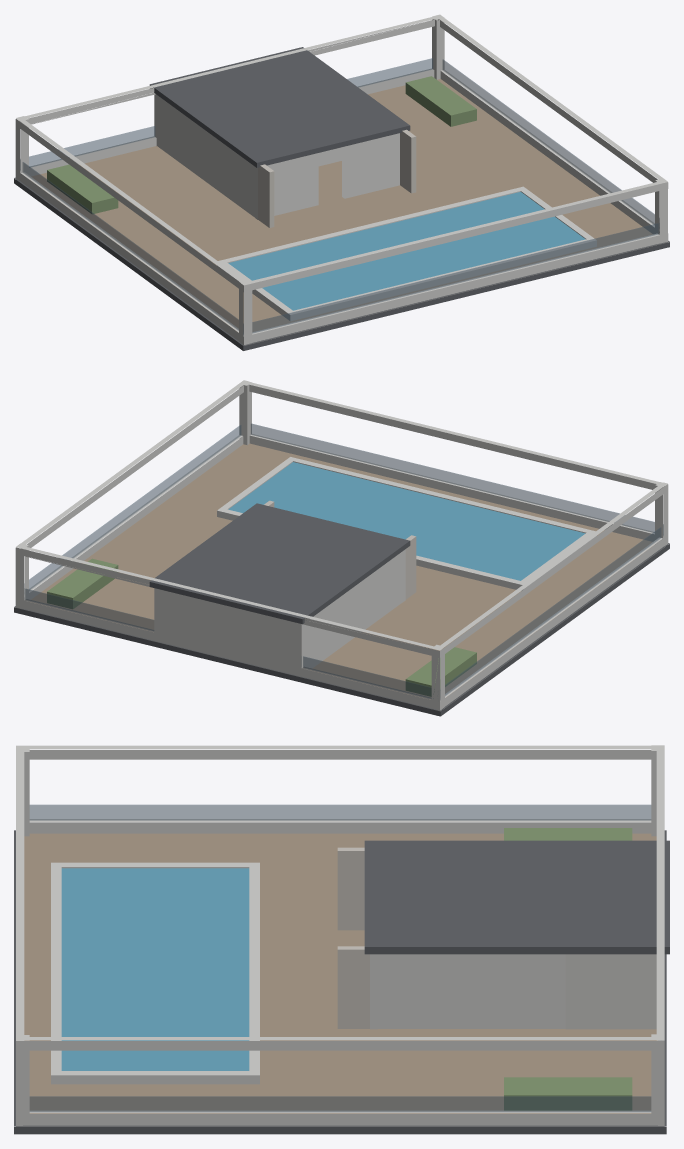
The model's file is condo-roof-b.reveal-v1.lod0.glb.
The picture shows the model from 3 angles, top to bottom: view 1: azimuth 30°, elevation 25°; view 2: azimuth 150°, elevation 25°; view 3: azimuth 270°, elevation 25°; orthographic projection. The views are drawn at different scales.
Visible parts, largest first — view 1: condo-roof-b; view 2: condo-roof-b; view 3: condo-roof-b.
Boxes of the visible parts, x1,y1,x2,y2 form: condo-roof-b: [14, 14, 669, 350]; condo-roof-b: [14, 380, 669, 716]; condo-roof-b: [14, 745, 669, 1134].
Size of the model in its own units: 26.16 by 3.86 by 24.48.
